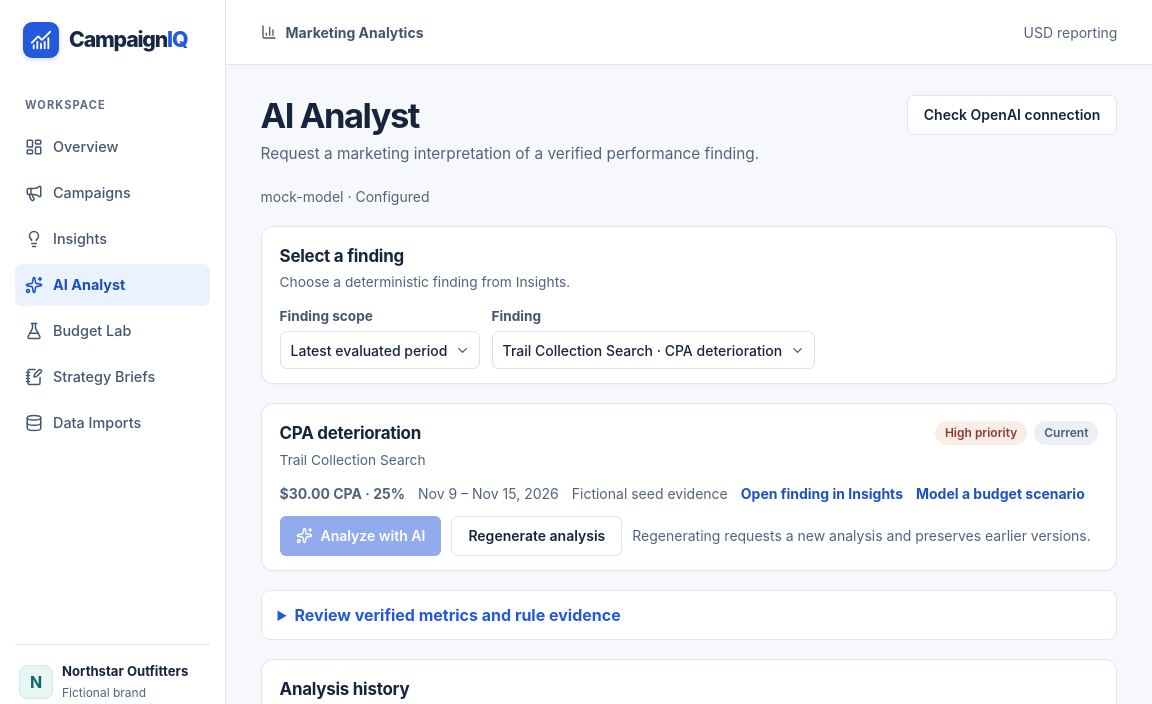
Test: sends an explicit regeneration against the latest analysis and preserves the earlier version
Click the button "Regenerate analysis" at (537, 536), box [451, 516, 622, 556]
(page scrolled)
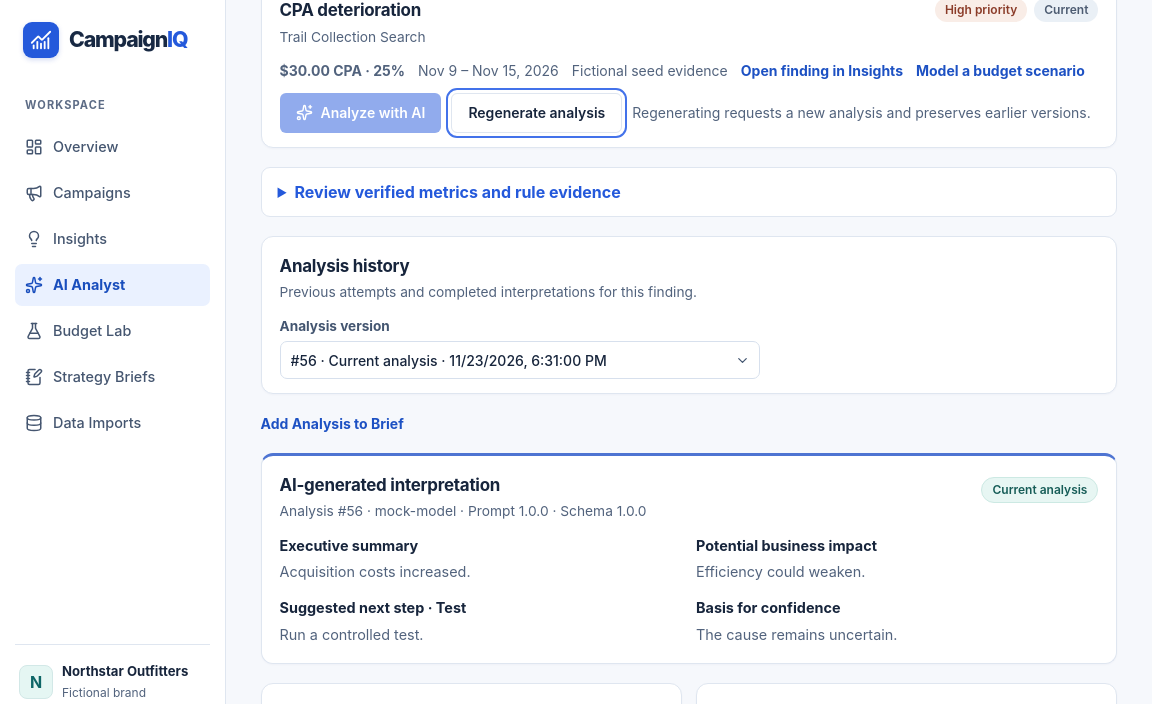
Now the text "Analysis #56 · mock-model · Prompt 1.0.0 · Schema 1.0.0" is shown, box [280, 502, 646, 523]
Select "#55 · Previous analysis · 11/23/2026, 6:31:00 PM" in the dropdown labelled "Analysis version" at (520, 360), box [280, 341, 760, 379]
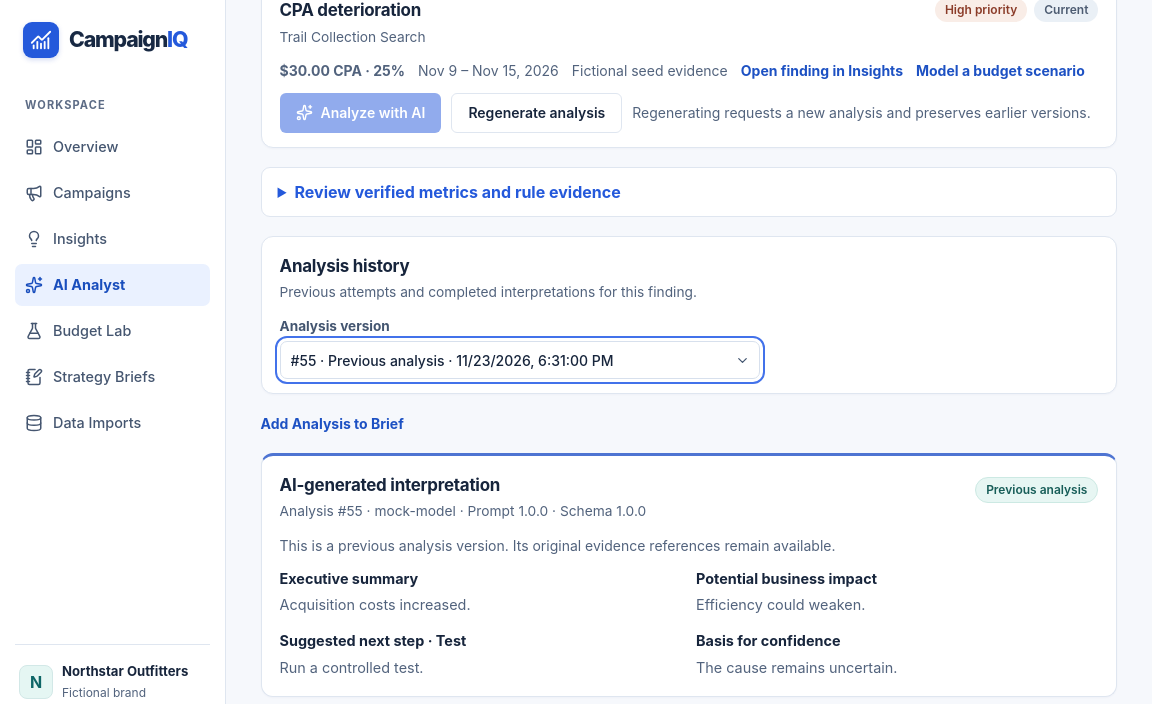
Now the text "Analysis #55 · mock-model · Prompt 1.0.0 · Schema 1.0.0" is shown, box [280, 502, 646, 523]
